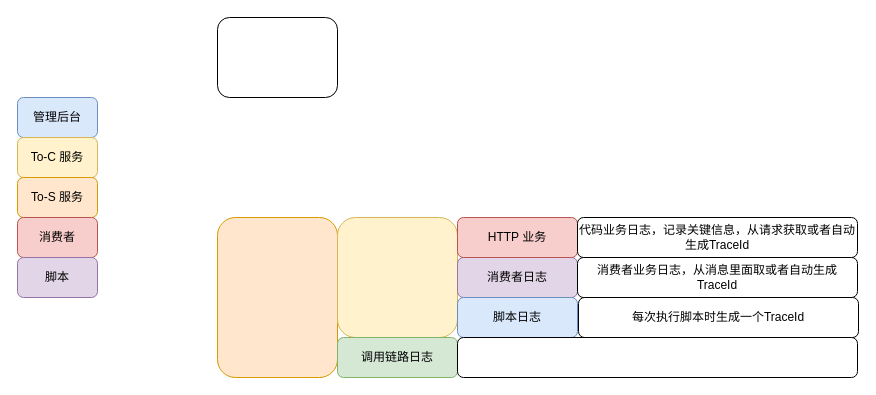
The diagram is 876 pixels wide and 395 high, and some of its shapes have lost their labels. The shapes that lost their labels are listed below. From the top down, each one's box as (x1, y1, x2, y2) in pixels, then its label:
(216, 16, 338, 98): 错误码
(216, 216, 338, 378): 日志
(336, 216, 458, 338): 业务日志
(456, 336, 858, 378): 调用链路日志，记录调用耗时等，从请求获取或者自动生成TraceId
